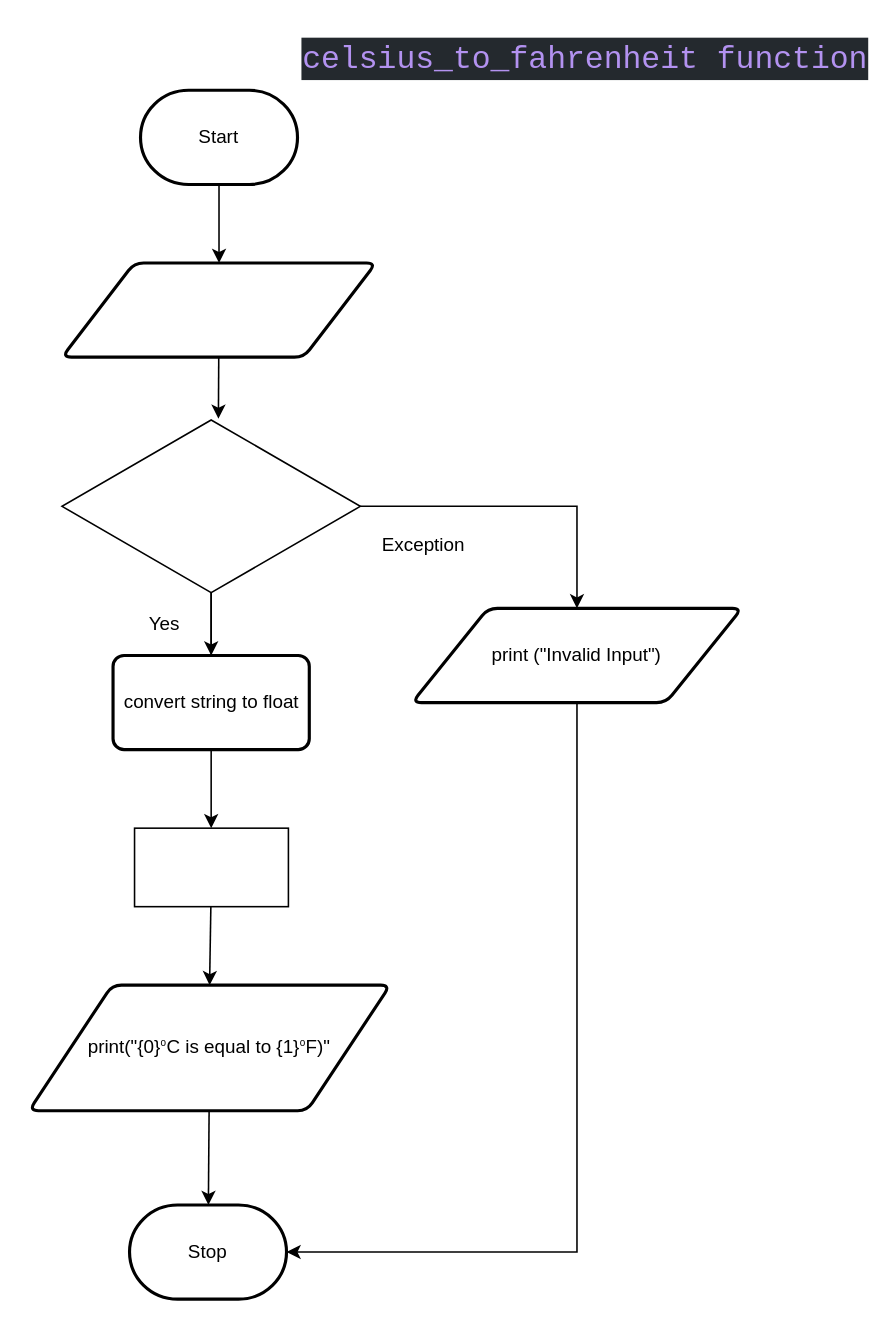
The diagram is 893 pixels wide and 1327 high, and some of its shapes have lost their labels. The box of each missing label's shape, as (x1, y1, x2, y2) in pixels:
Get tc_string: (60, 261, 377, 358)
tf = (9 / 5) * tc + 32: (133, 827, 288, 907)
try: (60, 418, 360, 593)
